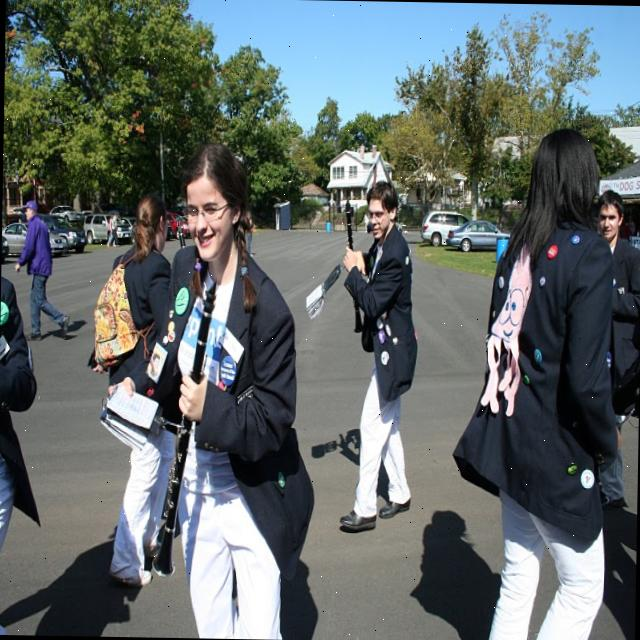clarinet: (150, 277, 220, 580), (342, 198, 364, 334)
